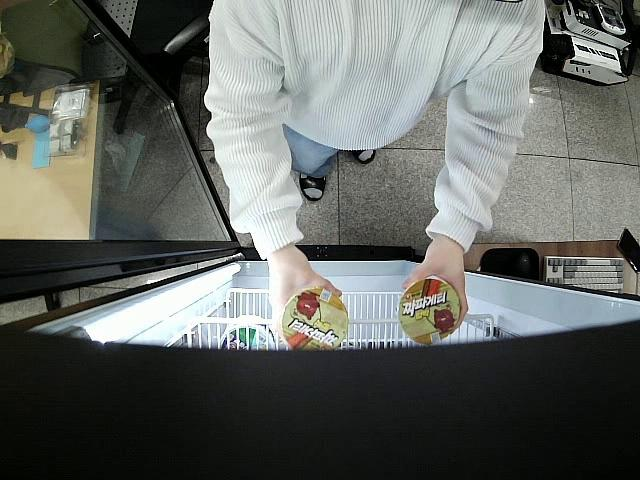00_hand: (268, 257, 344, 341), (401, 247, 469, 336)
04_chapagetti_S: (396, 278, 461, 344), (283, 287, 351, 349)
